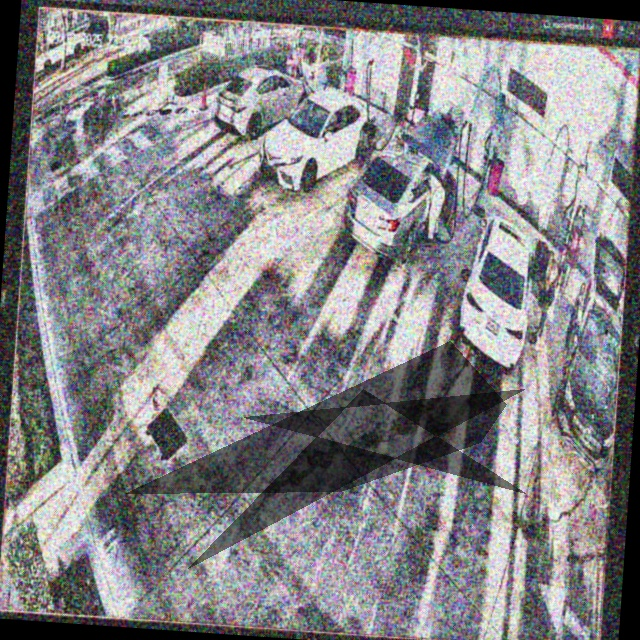Car: (342, 110, 454, 264), (261, 87, 379, 195), (460, 214, 537, 371), (213, 62, 314, 140)
